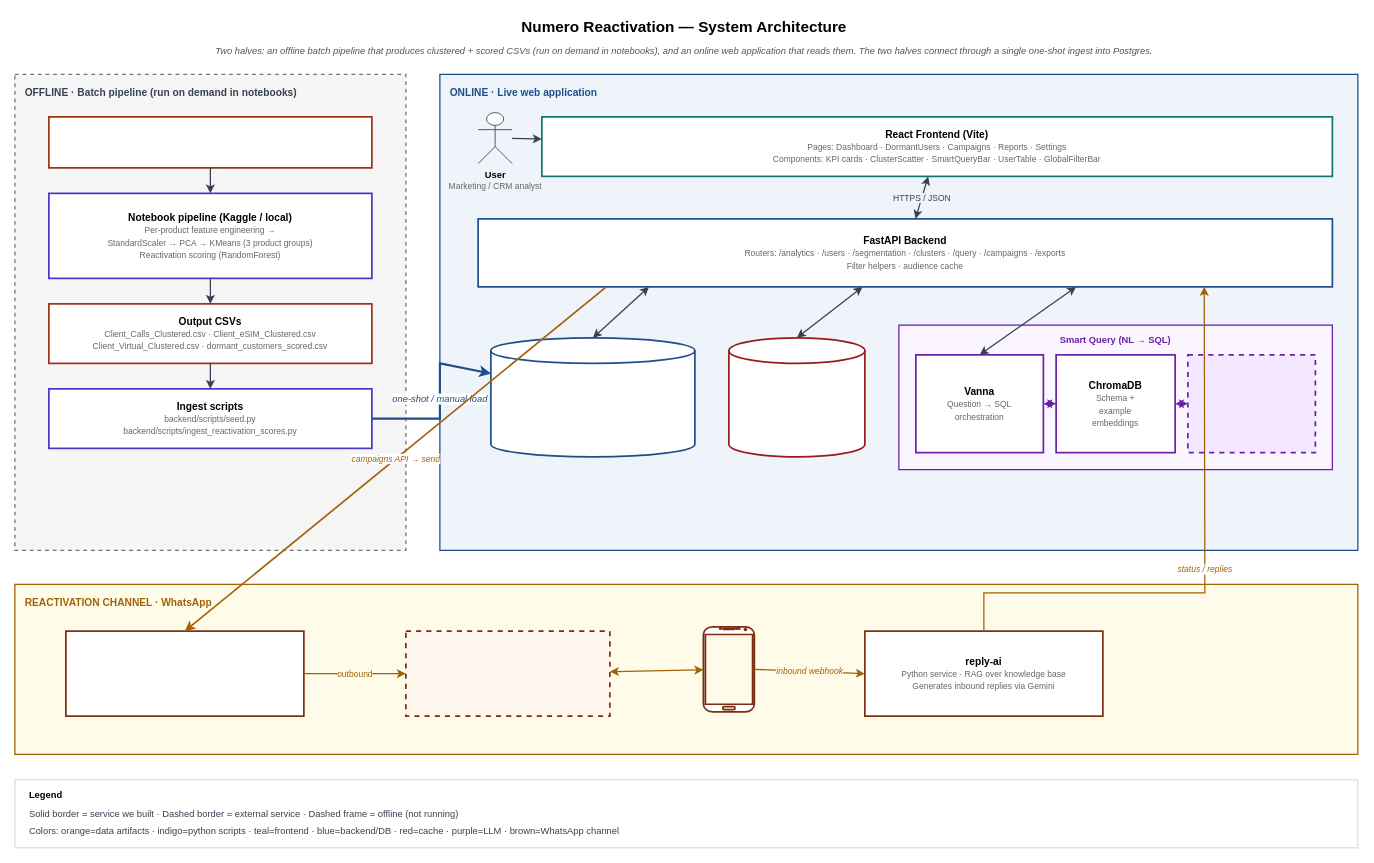
This 1374x863 diagram has some shape labels left out. The centre of each missing label's shape, as x and y in pixels:
Gemini API external LLM: (x=1251, y=403)
PostgreSQL 15 Tables: users · campaigns · campaign_recipients: (x=592, y=397)
Raw transactions Numero eSIM purchases (Excel/CSV) ~826k rows · 2024–2025: (x=210, y=142)
Redis Audience query cache: (x=796, y=397)
User's phone dormant customer: (x=728, y=669)
wa-gateway Node.js service HMAC-SHA256 verify · webhook router: (x=184, y=673)
WhatsApp Cloud API external · Meta: (x=507, y=673)
